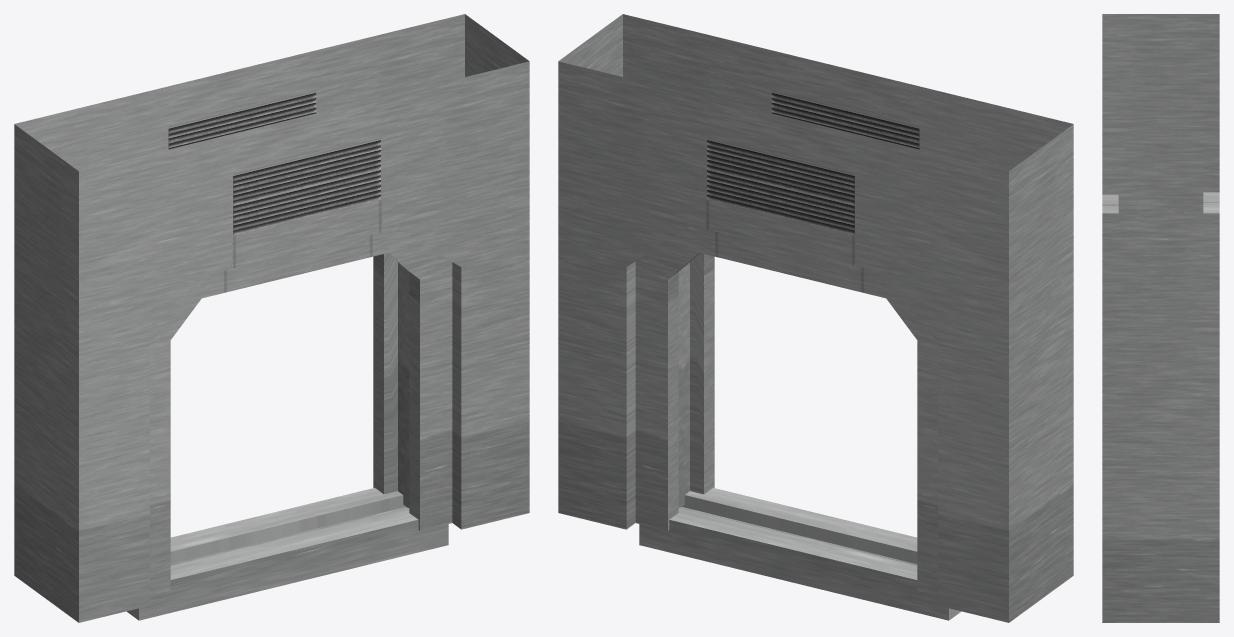
Rendered from machine_door_frame.glb.
The picture shows the model from 3 angles, left to right: view 1: azimuth 30°, elevation 25°; view 2: azimuth 150°, elevation 25°; view 3: azimuth 270°, elevation 25°; orthographic projection. The views are drawn at different scales.
Parts seen in each view (by area): view 1: machine_frame; view 2: machine_frame; view 3: machine_frame.
Boxes of the visible parts, box(x1,y1,x2,y2) form: machine_frame: box(14, 14, 529, 622); machine_frame: box(558, 14, 1073, 622); machine_frame: box(1102, 14, 1219, 622).
Size of the model in its own units: 5.14 by 5.17 by 1.28.
Materials: 1 (1 with a texture image).
